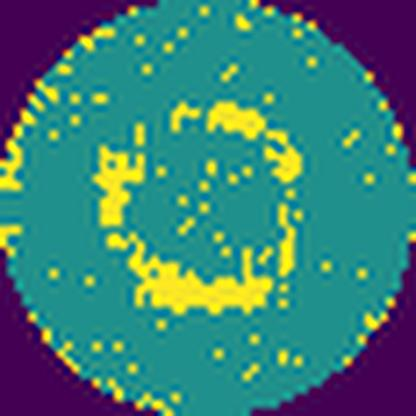Donut: (85, 97, 309, 319)
